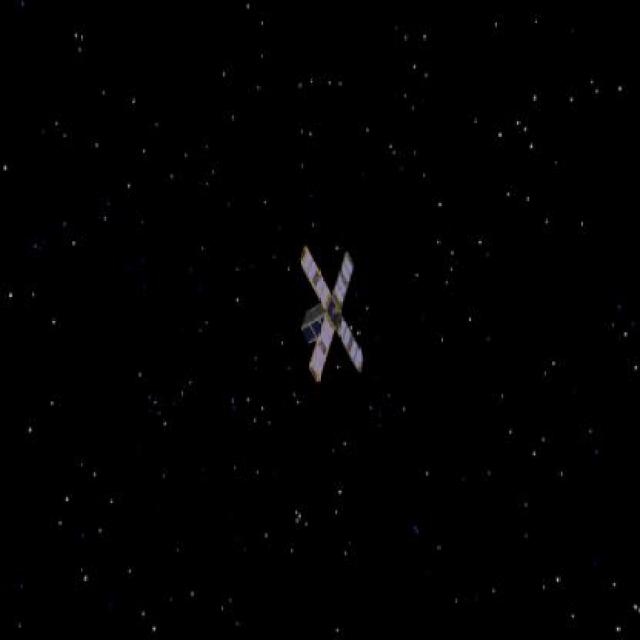medium_debris: (292, 246, 377, 389)
